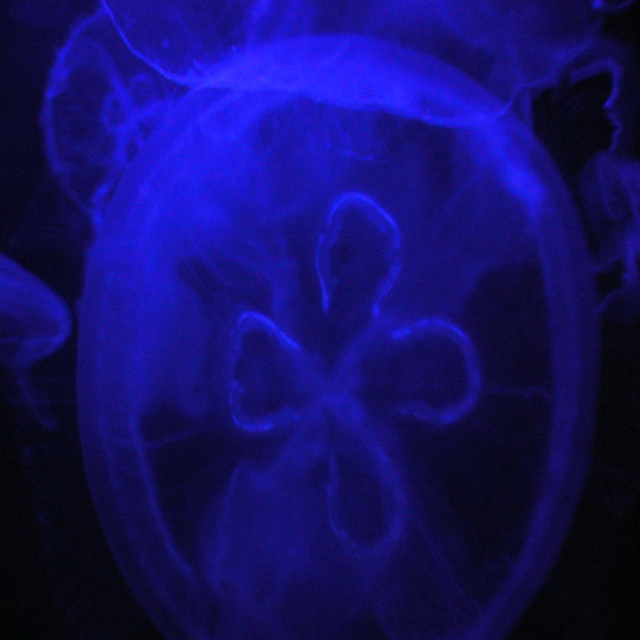Jellyfish: (36, 38, 580, 609)
